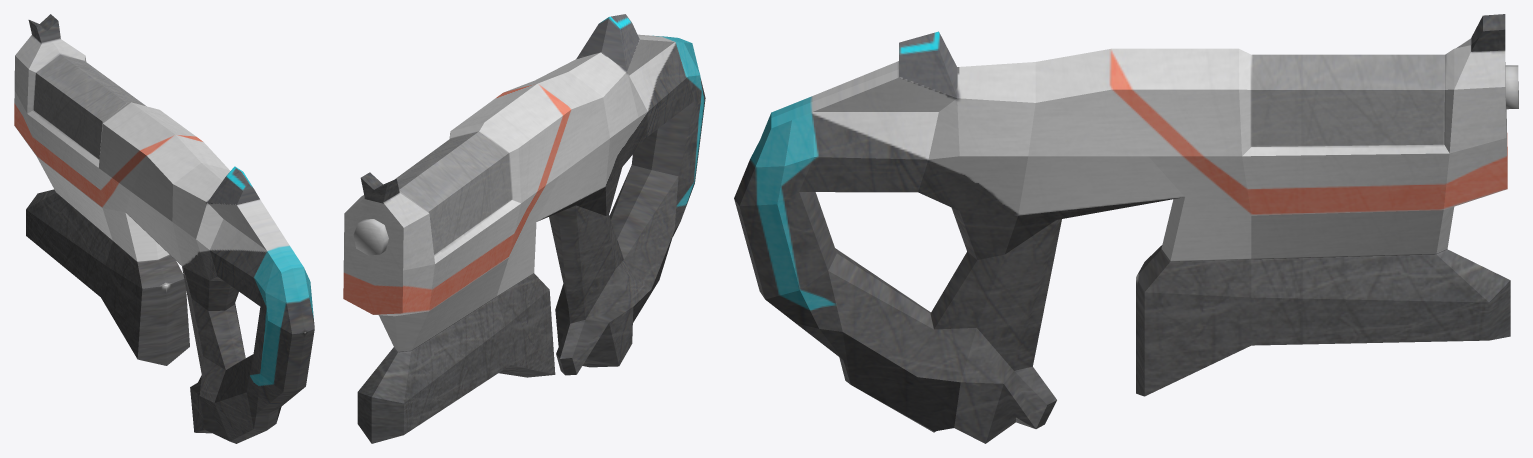
Rendered from Pistol.fbx.
3 views of the same model, side by side, from view 1: azimuth 30°, elevation 25°; view 2: azimuth 150°, elevation 25°; view 3: azimuth 270°, elevation 25° (orthographic). The views are drawn at different scales.
Parts seen in each view (by area): view 1: pCube1; view 2: pCube1; view 3: pCube1.
Part boxes in pixels (<box>): pCube1: <box>14,14,314,443</box>; pCube1: <box>343,14,705,443</box>; pCube1: <box>734,14,1518,443</box>.
Size of the model in its own units: 0.2025 by 0.8763 by 1.5.
